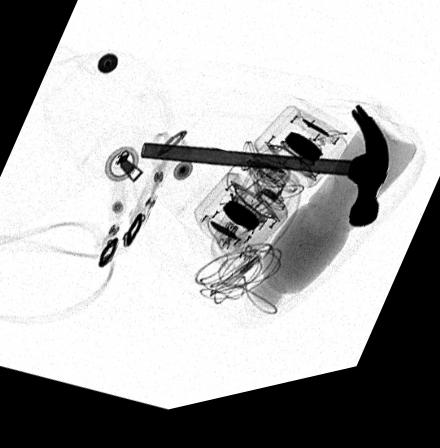Hammer: (140, 118, 389, 243)
